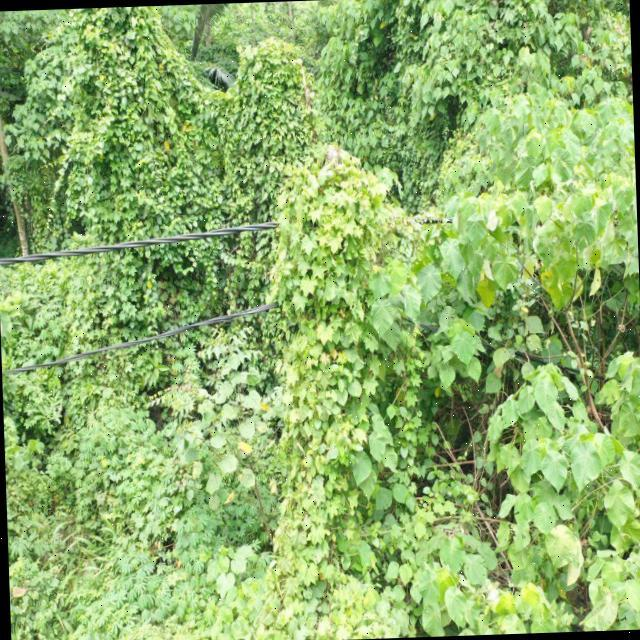critical vegetation: (244, 133, 425, 542)
